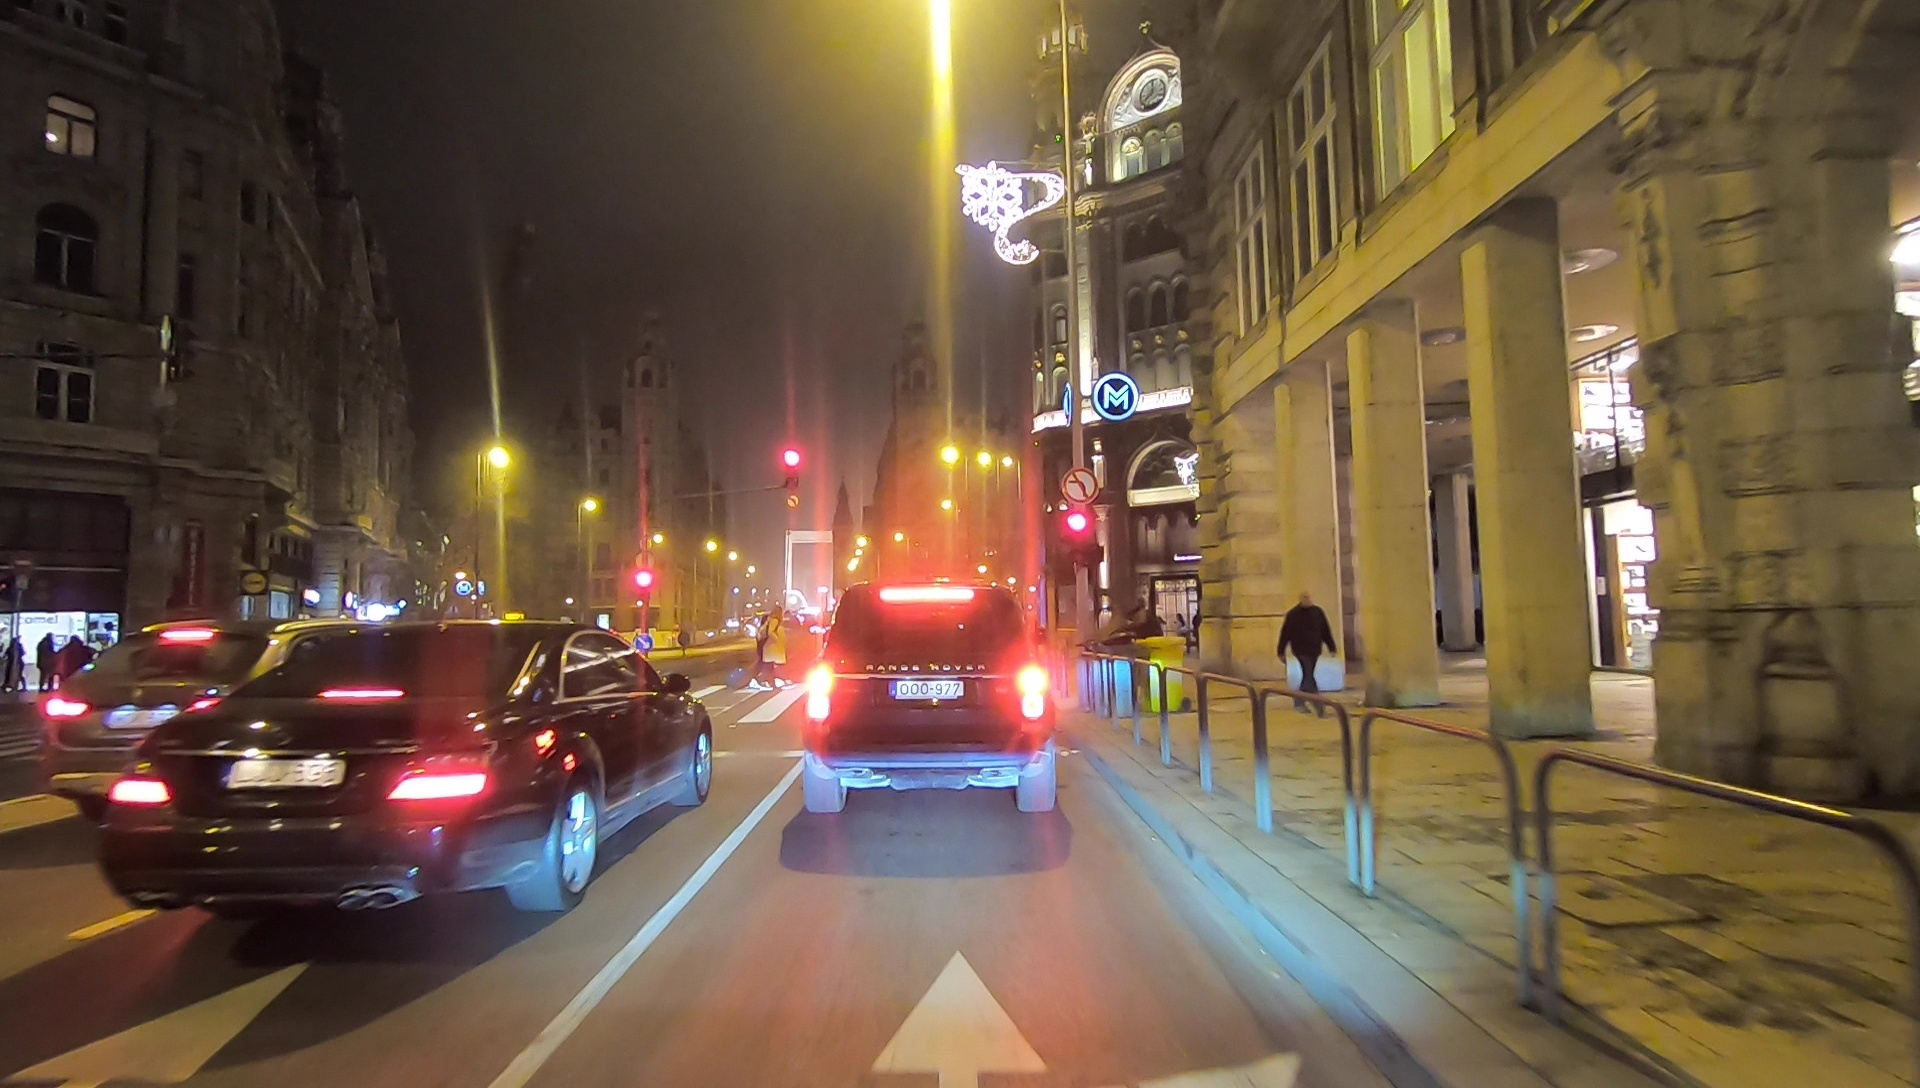person: (1278, 593, 1334, 715), (754, 604, 791, 695), (60, 632, 89, 705), (4, 633, 28, 694), (37, 632, 55, 693)
